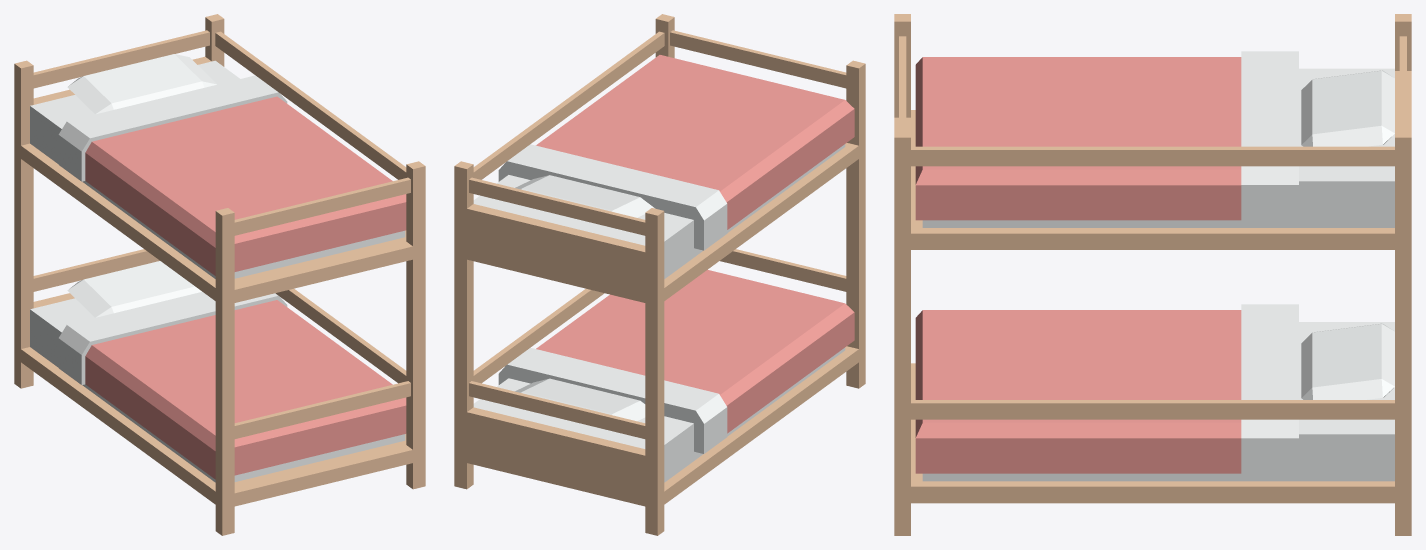
Rendered from bedBunk-alt-col.glb.
The picture shows the model from 3 angles, left to right: view 1: azimuth 30°, elevation 25°; view 2: azimuth 150°, elevation 25°; view 3: azimuth 270°, elevation 25°; orthographic projection. The views are drawn at different scales.
Visible parts, largest first — view 1: bedBunk-alt-col; view 2: bedBunk-alt-col; view 3: bedBunk-alt-col.
Boxes of the visible parts, x1,y1,x2,y2 form: bedBunk-alt-col: [14, 14, 425, 535]; bedBunk-alt-col: [454, 14, 865, 535]; bedBunk-alt-col: [894, 14, 1411, 535].
Size of the model in its own units: 0.571 by 0.85 by 1.
